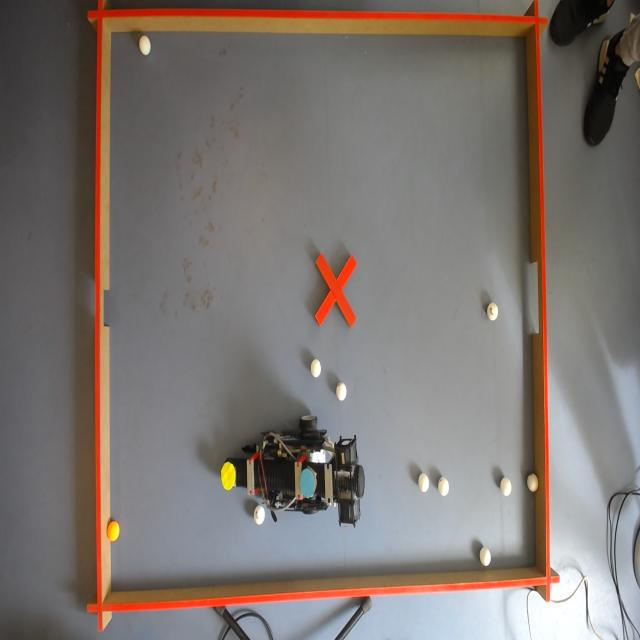orange: (109, 521, 122, 541)
robot: (236, 426, 362, 520)
robot-front: (221, 462, 235, 491)
robot-rear: (298, 464, 320, 501)
white: (254, 506, 267, 528), (138, 37, 151, 59), (478, 547, 492, 567), (526, 472, 539, 493), (309, 360, 322, 380), (336, 383, 349, 403), (502, 477, 514, 498), (439, 477, 452, 496), (418, 474, 429, 491), (487, 302, 497, 318)
